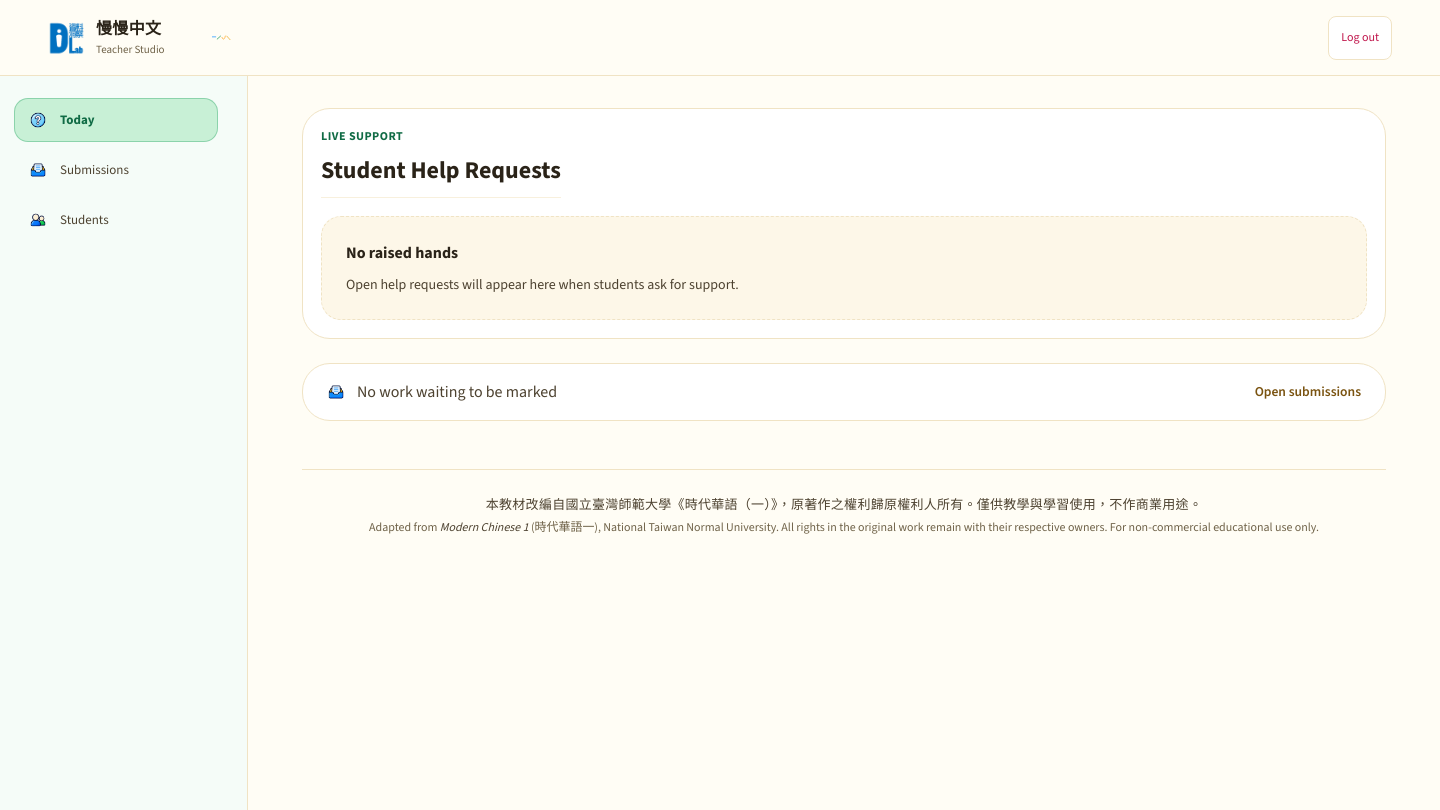
it: Quiz analytics on the Students view › filters quiz analytics by the selected student
Click the button "Students" at (116, 220), box [14,198,218,242]
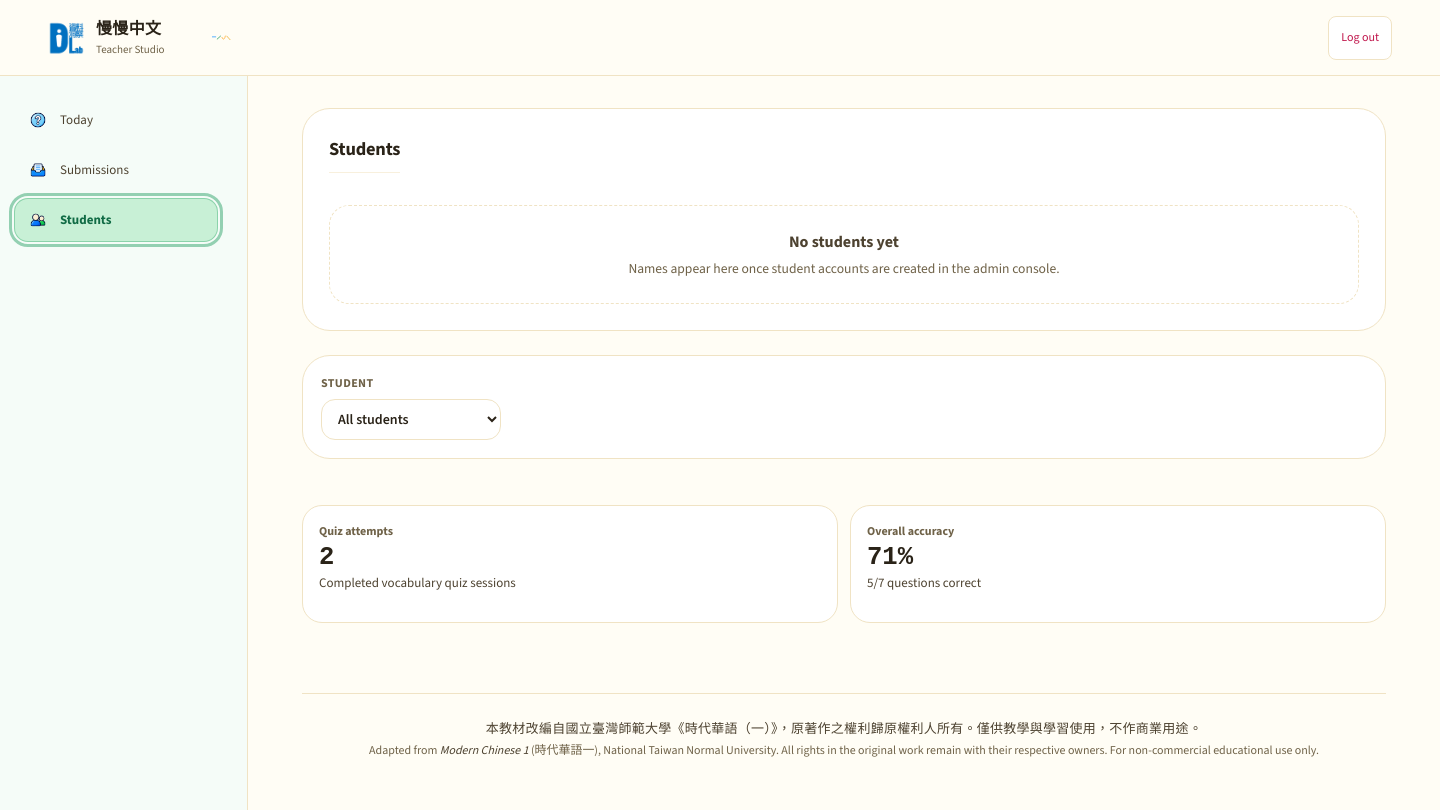
Check: the text "2" is shown, box [319,543,334,572]
Select "Bo" in the dropdown labelled "Student" at (411, 420), box [321,399,501,440]
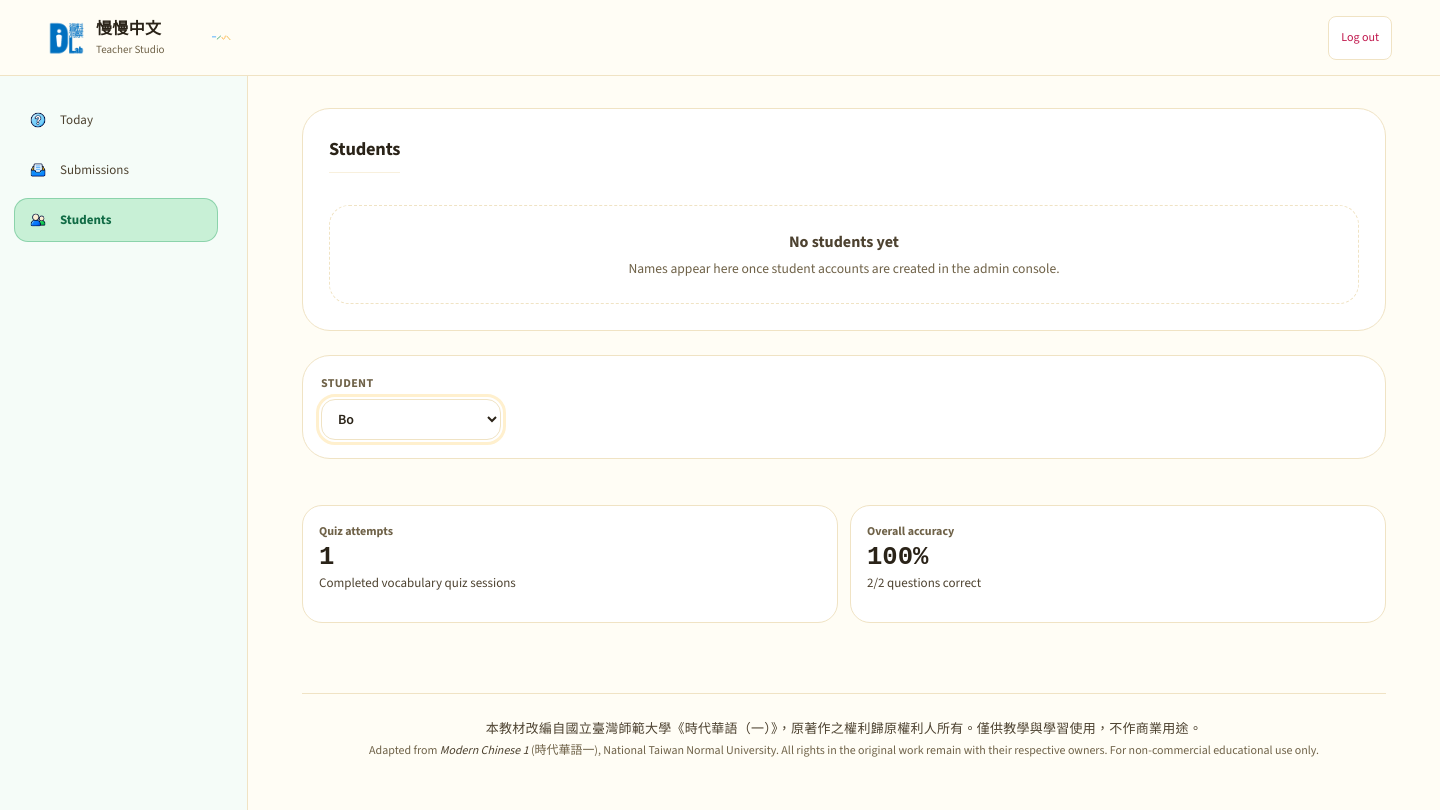
Check: the text "1" is shown, box [319,543,334,572]
Check: the text "100%" is shown, box [867,543,928,572]
Select "All students" in the dropdown labelled "Student" at (411, 420), box [321,399,501,440]
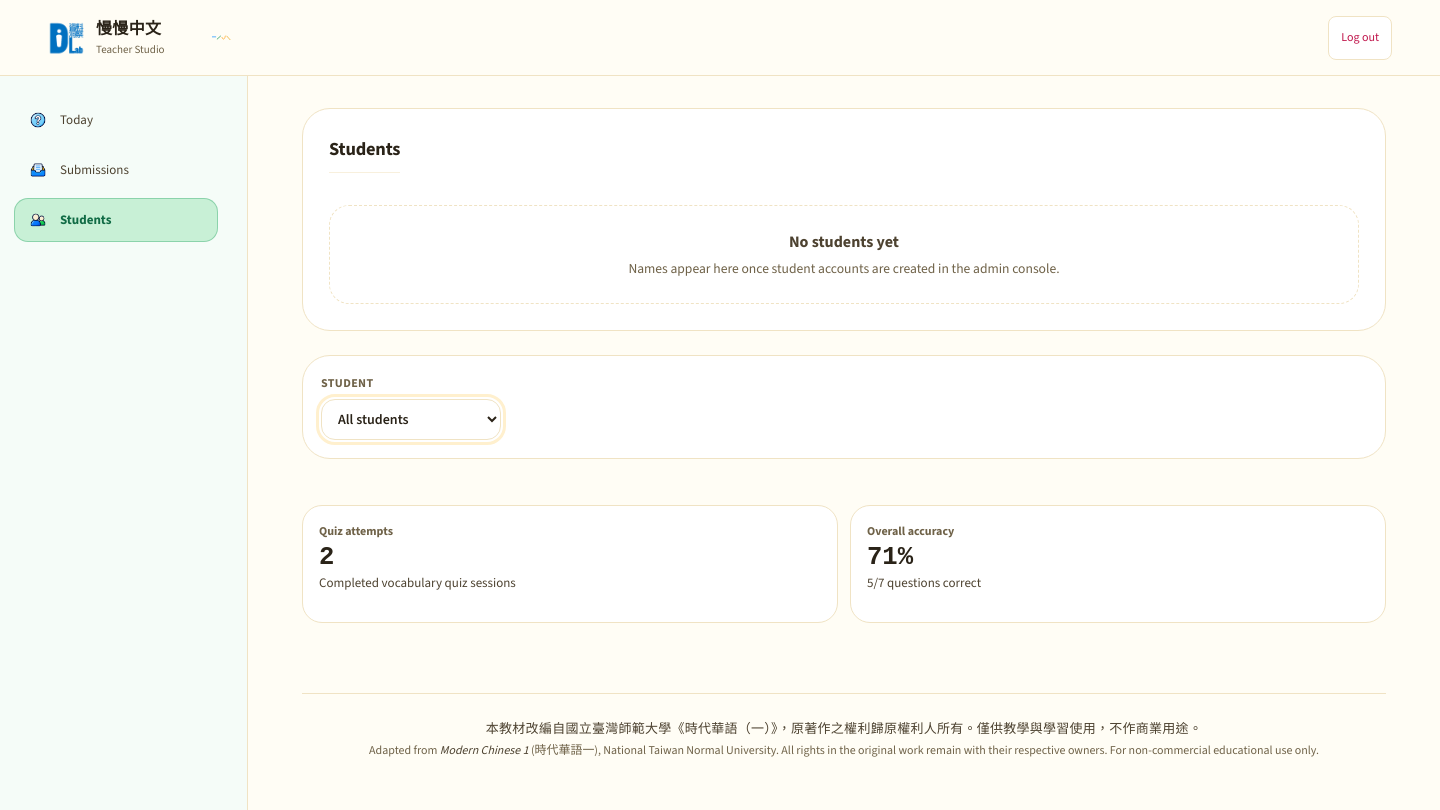
Check: the text "2" is shown, box [319,543,334,572]
